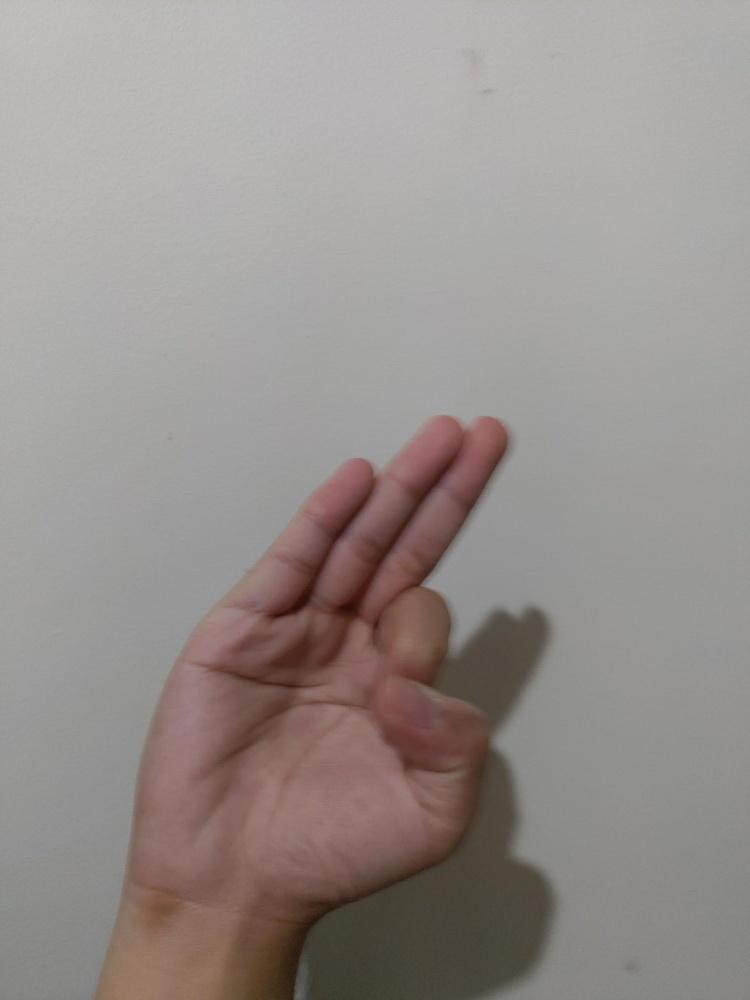f: (125, 413, 516, 914)
